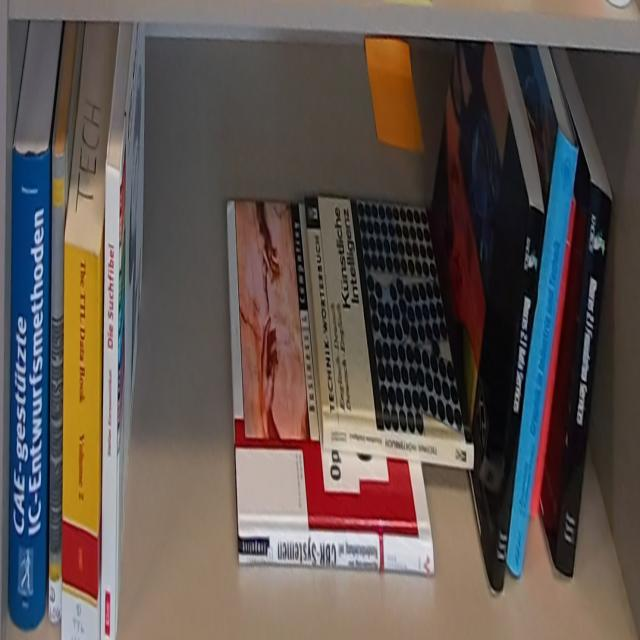Book Spine: (509, 128, 583, 581), (556, 183, 616, 585), (8, 146, 52, 636), (492, 205, 546, 592), (62, 241, 101, 640), (239, 520, 433, 575), (322, 410, 474, 472), (101, 170, 120, 640), (50, 152, 67, 632)
